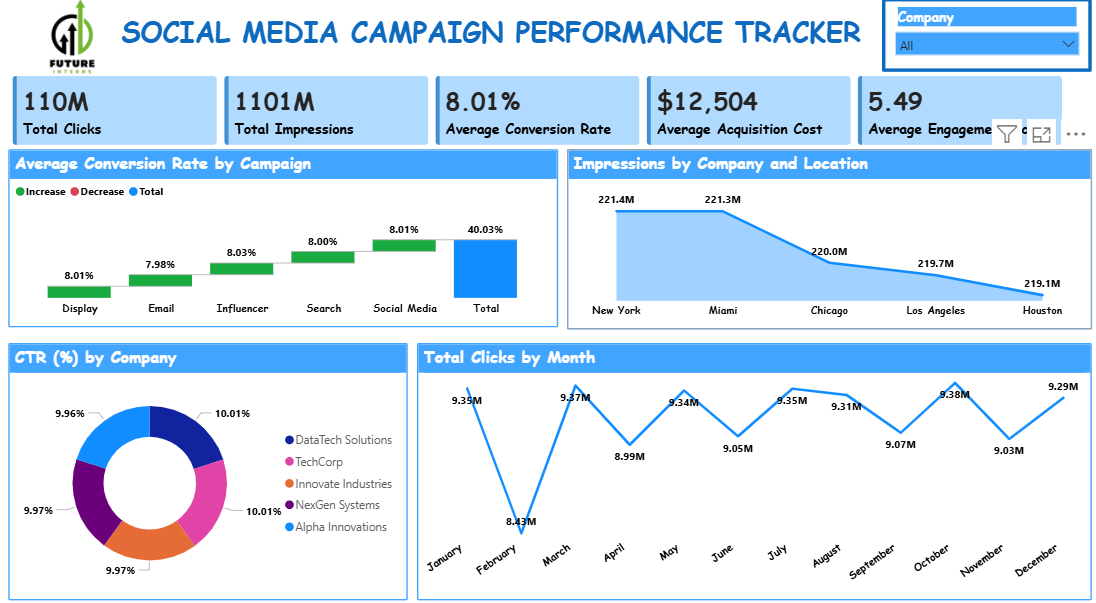

The dashboard page shown, as its layout file describes it:
{"tool":"powerbi","page":{"name":"Page 1","canvas":[1280,720],"ordinal":0},"visuals":[{"type":"cardVisual","fields":{"Data":["marketing_campaign_dataset.Total Clicks","marketing_campaign_dataset.Total Impressions","marketing_campaign_dataset.Average Conversion Rate","marketing_campaign_dataset.Average Acquisition Cost","marketing_campaign_dataset.Average Engagement Score"]},"box":[13,90.9,1230.7,90.9],"z":0},{"type":"lineChart","fields":{"Category":["marketing_campaign_dataset.Date.Variation.Date Hierarchy.Month"],"Y":["marketing_campaign_dataset.Total Clicks"]},"box":[487,405.8,782.6,298.6],"z":1000},{"type":"donutChart","fields":{"Category":["marketing_campaign_dataset.Company"],"Y":["marketing_campaign_dataset.CTR (%)"]},"box":[13,405.4,463.1,298.7],"z":2000},{"type":"waterfallChart","title":"Average Conversion Rate by Campaign","fields":{"Category":["marketing_campaign_dataset.Campaign_Type"],"Y":["marketing_campaign_dataset.Average Conversion Rate"]},"box":[13,181.8,637.7,206.3],"z":3000},{"type":"areaChart","title":"Impressions by Company and Location","fields":{"Category":["marketing_campaign_dataset.Location"],"Y":["Sum(marketing_campaign_dataset.Impressions)"]},"box":[660.9,181.2,608.7,208.7],"z":4000},{"type":"textbox","box":[138.5,17.3,887.3,73.6],"z":5000},{"type":"image","box":[33.2,0,105.3,102.4],"z":6000},{"type":"slicer","fields":{"Values":["marketing_campaign_dataset.Company"]},"box":[1026.1,5.8,243.5,85.5],"z":7000}]}

Visuals, with their boxes in screenshot pixels (x1, y1, x2, y2), scaled from the page's 1280x720 canvas onto the 1096x603 screenshot:
cardVisual - marketing_campaign_dataset.Total Clicks x marketing_campaign_dataset.Total Impressions: rect(11, 76, 1065, 152)
lineChart - marketing_campaign_dataset.Date.Variation.Date Hierarchy.Month x marketing_campaign_dataset.Total Clicks: rect(417, 340, 1087, 590)
donutChart - marketing_campaign_dataset.Company x marketing_campaign_dataset.CTR (%): rect(11, 340, 408, 590)
"Average Conversion Rate by Campaign" waterfallChart: rect(11, 152, 557, 325)
"Impressions by Company and Location" areaChart: rect(566, 152, 1087, 327)
textbox: rect(119, 14, 878, 76)
image: rect(28, 0, 119, 86)
slicer - marketing_campaign_dataset.Company: rect(879, 5, 1087, 76)
